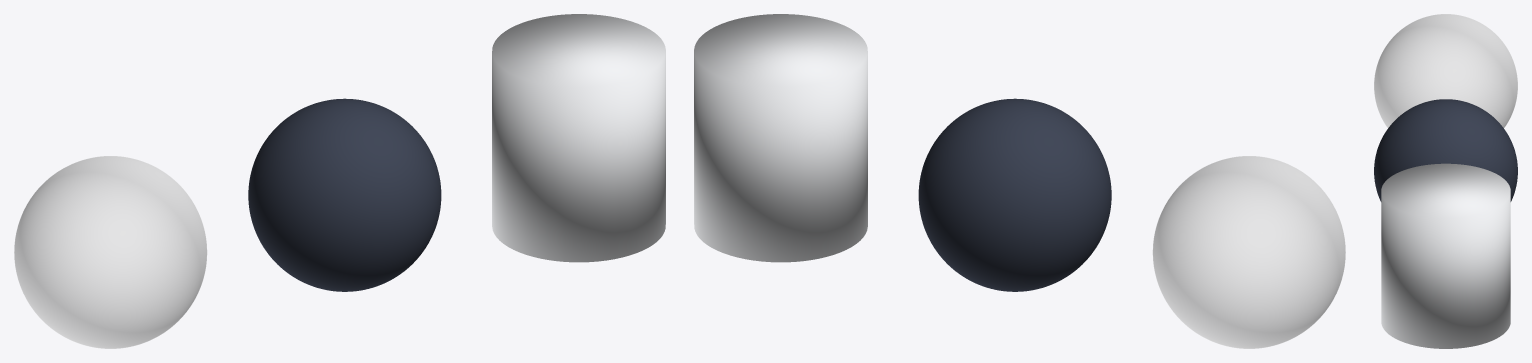
Rendered from iridescence_lab.glb.
3 renders of one model, left to right at view 1: azimuth 30°, elevation 25°; view 2: azimuth 150°, elevation 25°; view 3: azimuth 270°, elevation 25°, orthographic. The views are drawn at different scales.
Visible parts, largest first — view 1: Brushed_Steel, Pearlescent_Shell, Soap_Bubble; view 2: Brushed_Steel, Pearlescent_Shell, Soap_Bubble; view 3: Brushed_Steel, Soap_Bubble, Pearlescent_Shell.
Boxes of the visible parts, bbox=[...] form: Brushed_Steel: bbox=[492, 14, 665, 262]; Pearlescent_Shell: bbox=[248, 98, 441, 291]; Soap_Bubble: bbox=[14, 156, 206, 348]; Brushed_Steel: bbox=[694, 14, 867, 262]; Pearlescent_Shell: bbox=[918, 98, 1111, 291]; Soap_Bubble: bbox=[1153, 156, 1345, 348]; Brushed_Steel: bbox=[1381, 163, 1510, 348]; Soap_Bubble: bbox=[1374, 14, 1517, 127]; Pearlescent_Shell: bbox=[1374, 99, 1517, 201].
Size of what is drawn, in the model's own units: 7.5 by 2 by 2.
